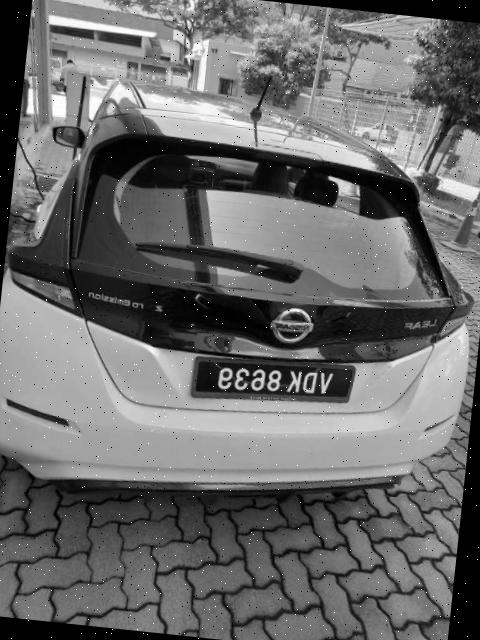License_Plate: (191, 350, 357, 415)
car: (1, 54, 480, 532)
